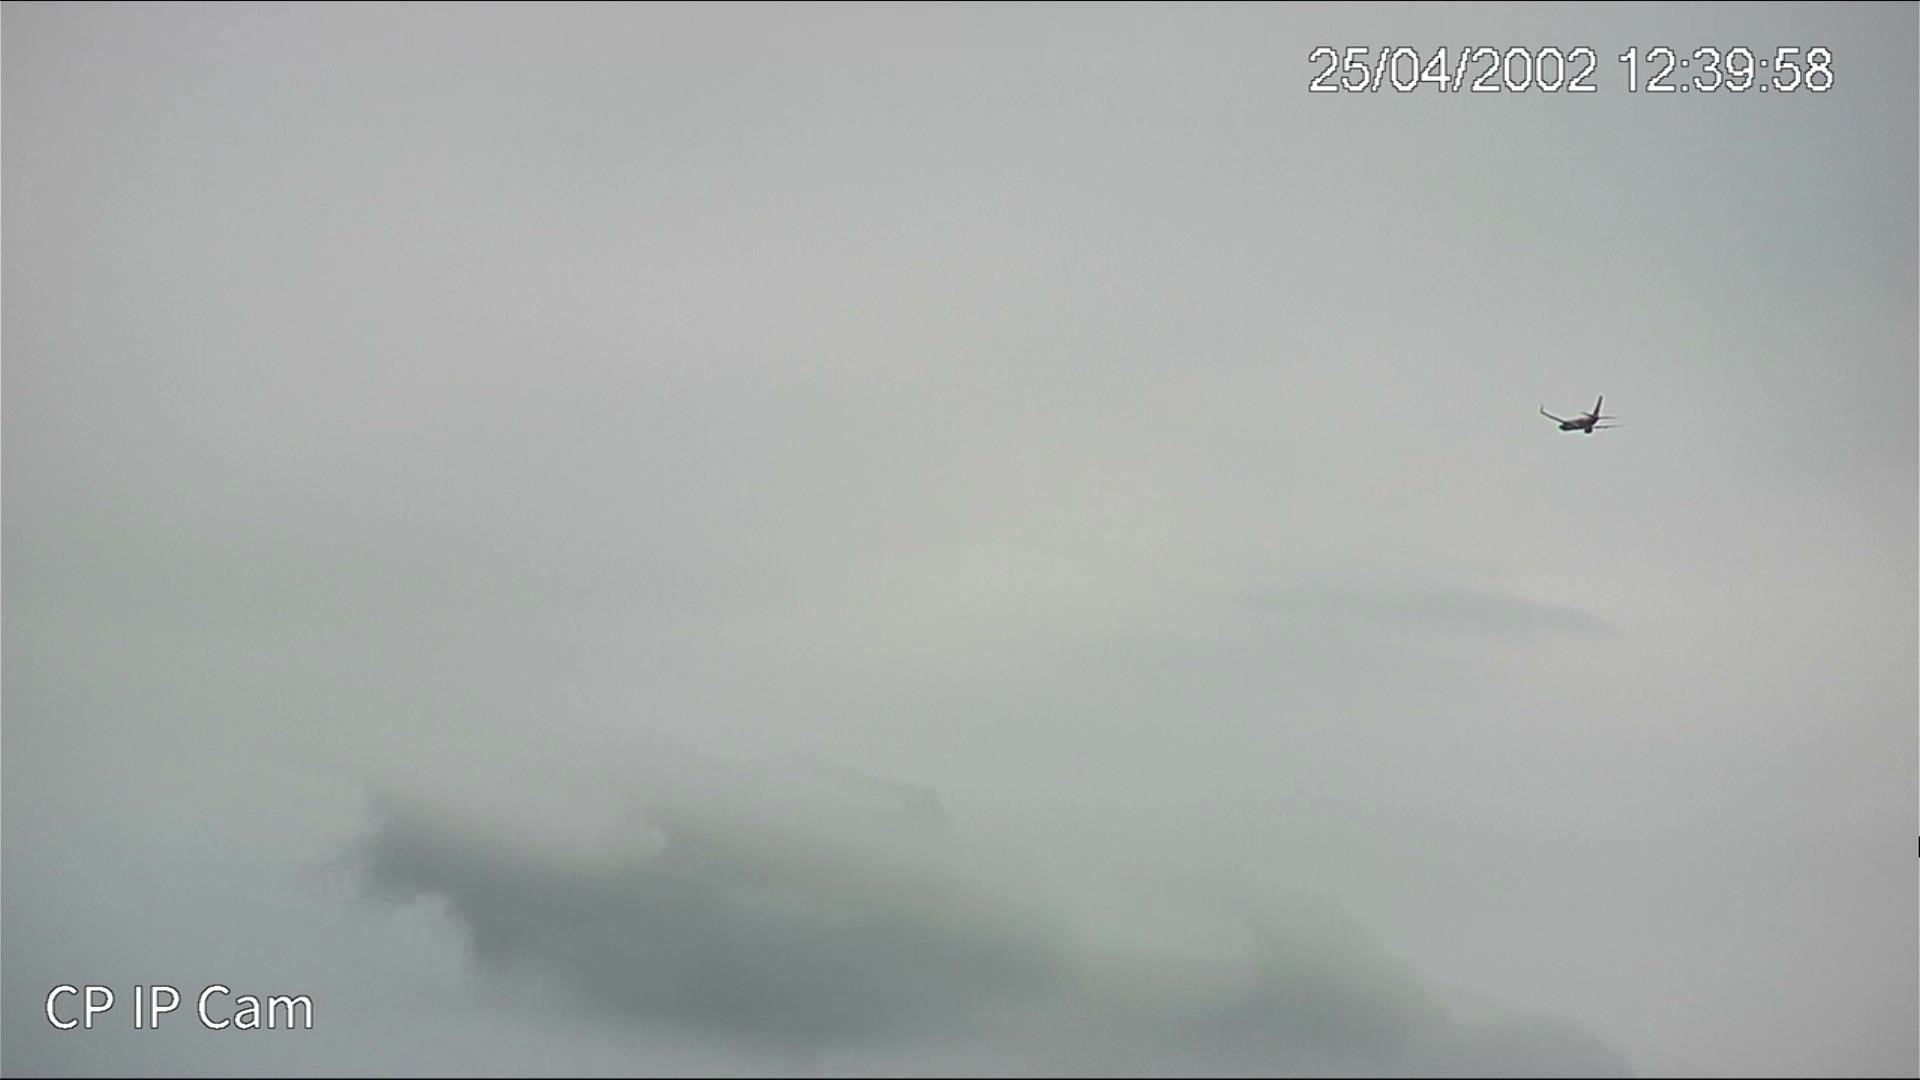SU_30: (1540, 392, 1618, 439)
